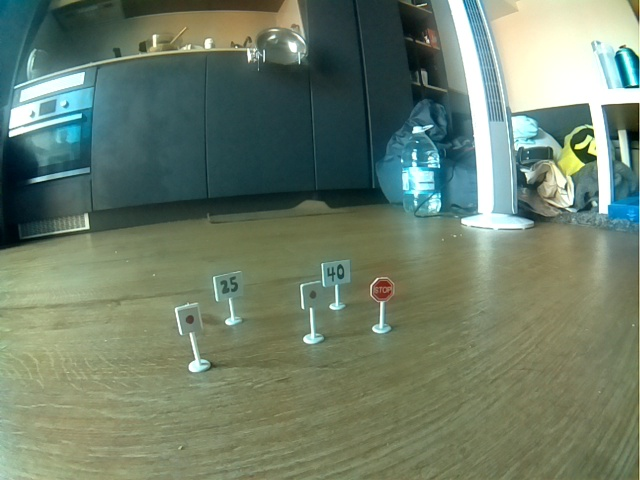red light: (177, 305, 204, 333), (301, 281, 323, 307)
speed 25: (215, 271, 244, 298)
speed 40: (322, 260, 350, 285)
stop: (371, 276, 394, 304)
